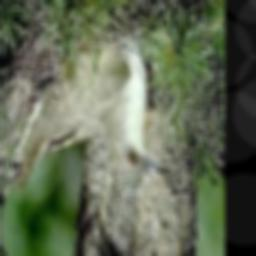Cuckoo: (19, 39, 172, 192)
